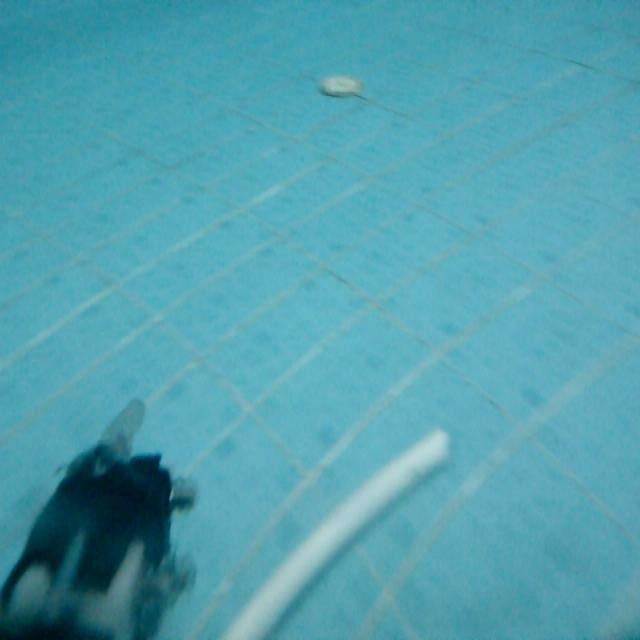Cube: (228, 431, 449, 640)
